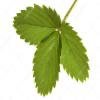Strawberry leaf: (29, 30, 63, 98), (12, 1, 62, 47), (58, 20, 91, 84)
